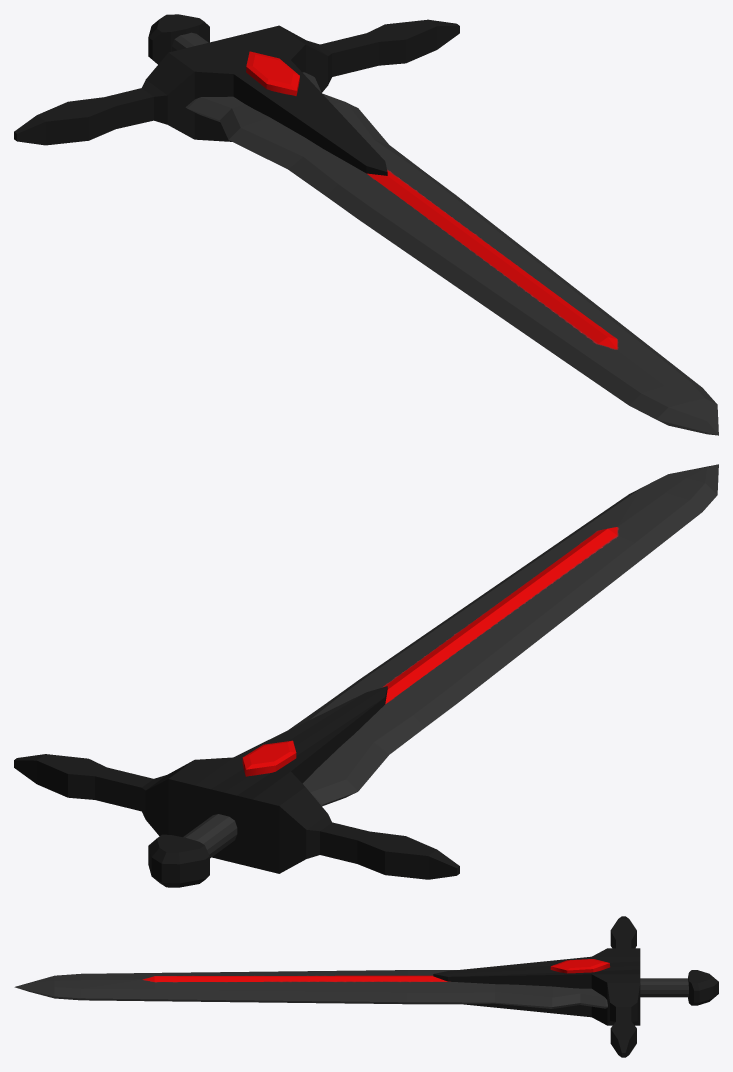
The model's file is 2Tier_Sword_fix.fbx.
The picture shows the model from 3 angles, top to bottom: view 1: azimuth 30°, elevation 25°; view 2: azimuth 150°, elevation 25°; view 3: azimuth 270°, elevation 25°; orthographic projection. The views are drawn at different scales.
Visible parts, largest first — view 1: sword2lv1; view 2: sword2lv1; view 3: sword2lv1.
Boxes of the visible parts, box(x1,y1,x2,y2) form: sword2lv1: box(14, 14, 718, 435); sword2lv1: box(14, 464, 718, 887); sword2lv1: box(14, 916, 718, 1057).
Size of the model in its own units: 38.93 by 6.19 by 84.85.
4 materials, 3 textured.
